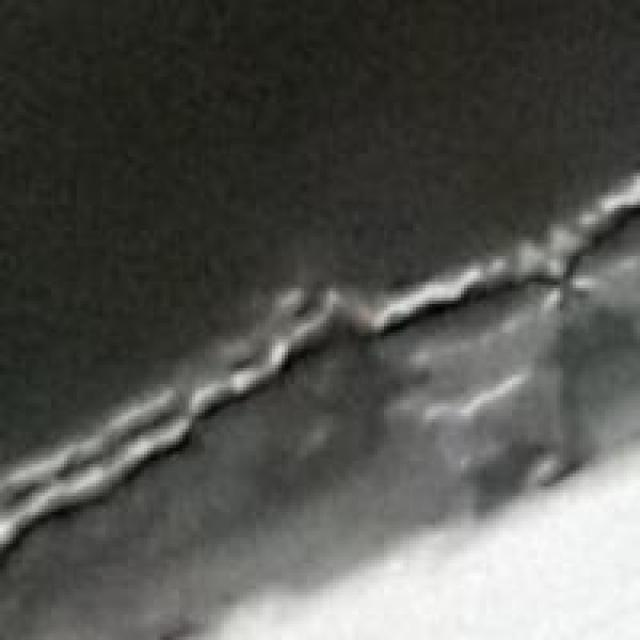Crack: (0, 141, 637, 637)
